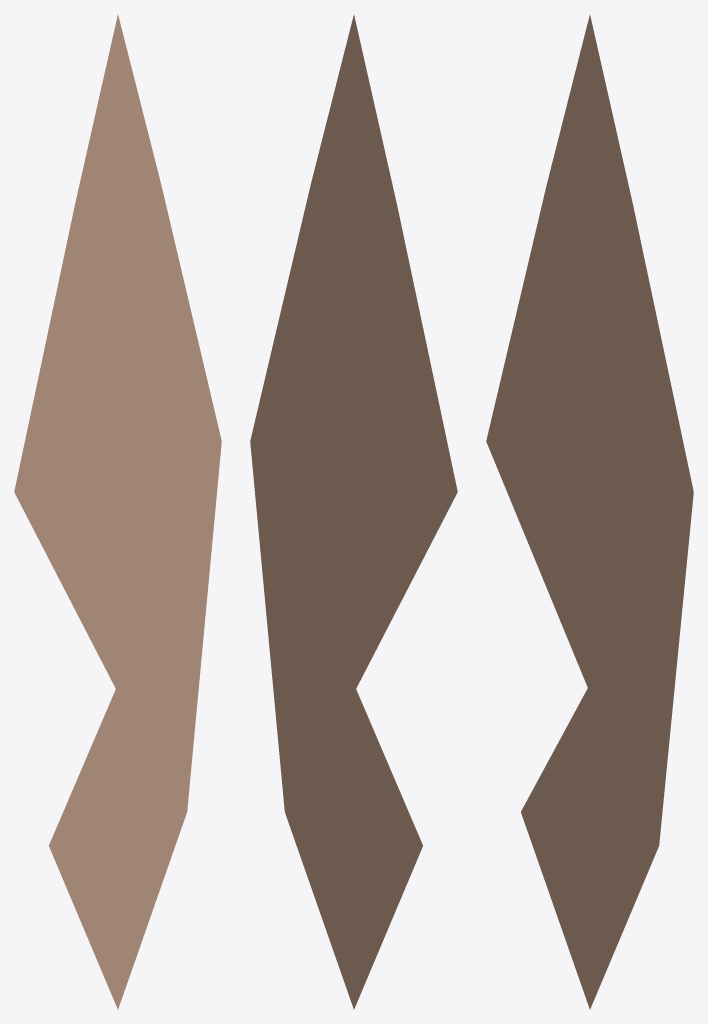
3 views of the same model, side by side, from view 1: azimuth 30°, elevation 25°; view 2: azimuth 150°, elevation 25°; view 3: azimuth 330°, elevation 25° (orthographic).
Bounding box in the file's own units: 0.24 × 1.1 × 0.
